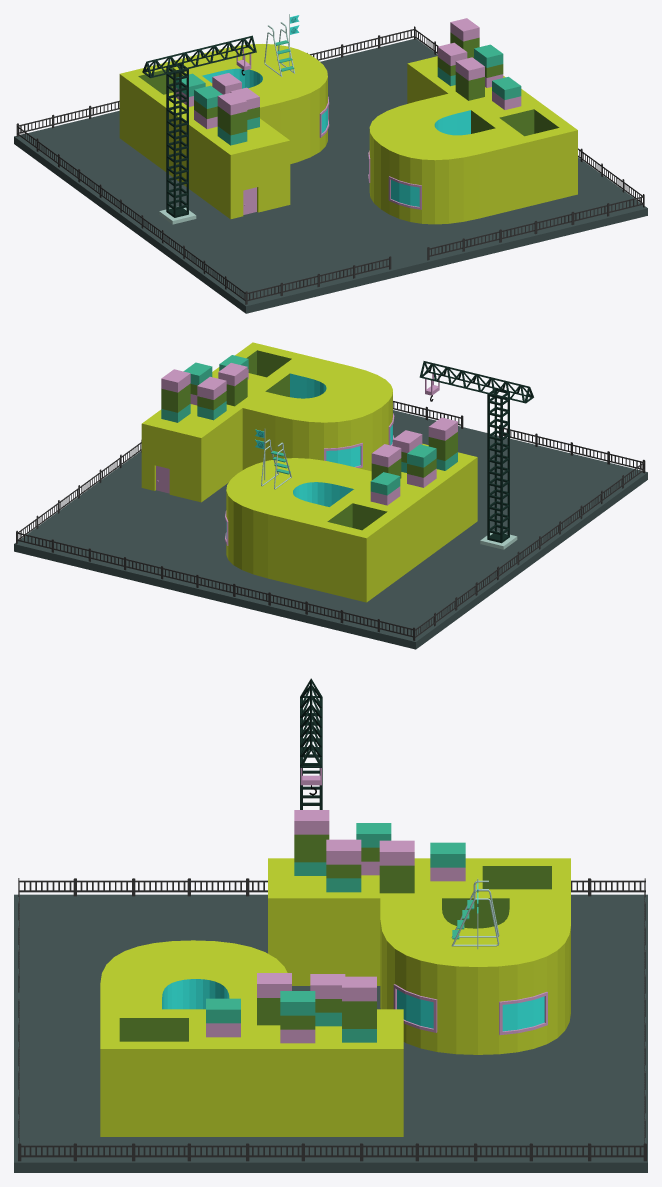
Rendered from D4_P_IN_CONSTRUCTION.fbx.
3 views of the same model, one above another, from view 1: azimuth 30°, elevation 25°; view 2: azimuth 150°, elevation 25°; view 3: azimuth 270°, elevation 25° (orthographic). The views are drawn at different scales.
Visible parts, largest first — view 1: Cube.326, Text.003, Text.002, Cube.025, Cube.338, Cube.117, Cube.015, Cube.337, Cube.330, Cube.332, Cube.017, Cube.328 (+9 smaller); view 2: Cube.326, Text.002, Text.003, Cube.337, Cube.025, Cube.338, Cube.327, Cube.015, Cube.017, Cube.328, Cube.292, Cube.332 (+8 smaller); view 3: Cube.326, Text.003, Text.002, Cube.292, Cube.338, Cube.327, Cube.015, Cube.016, Cube.018, Cube.329, Cube.328, Cube.330 (+5 smaller).
Boxes of the visible parts, x1,y1,x2,y2 form: Cube.326: (14, 38, 647, 313); Text.003: (368, 56, 577, 224); Text.002: (119, 44, 329, 219); Cube.025: (166, 64, 188, 215); Cube.338: (17, 126, 245, 300); Cube.117: (427, 196, 643, 260); Cube.015: (217, 92, 247, 145); Cube.337: (16, 29, 414, 136); Cube.330: (455, 57, 484, 100); Cube.332: (245, 256, 391, 304); Cube.017: (194, 85, 222, 129); Cube.328: (437, 42, 467, 86); Cube.326: (14, 410, 647, 649); Text.002: (225, 443, 477, 602); Text.003: (141, 342, 394, 502); Cube.337: (17, 532, 415, 640); Cube.025: (487, 389, 509, 540); Cube.338: (414, 462, 644, 637); Cube.327: (161, 369, 190, 422); Cube.015: (428, 417, 457, 470); Cube.017: (407, 444, 436, 487); Cube.328: (197, 376, 226, 420); Cube.292: (16, 440, 141, 544); Cube.332: (499, 425, 645, 473); Cube.326: (14, 894, 647, 1172); Text.003: (100, 940, 403, 1136); Text.002: (268, 858, 570, 1054); Cube.292: (18, 1143, 646, 1161); Cube.338: (19, 878, 645, 896); Cube.327: (342, 976, 376, 1042); Cube.015: (294, 810, 329, 875); Cube.016: (326, 839, 361, 892); Cube.018: (379, 840, 414, 893); Cube.329: (280, 991, 315, 1043); Cube.328: (310, 974, 345, 1026); Cube.330: (257, 973, 291, 1025).
Bounding box in the file's own units: 4000 × 1621 × 4000.
Materials: 5 (4 with a texture image).
